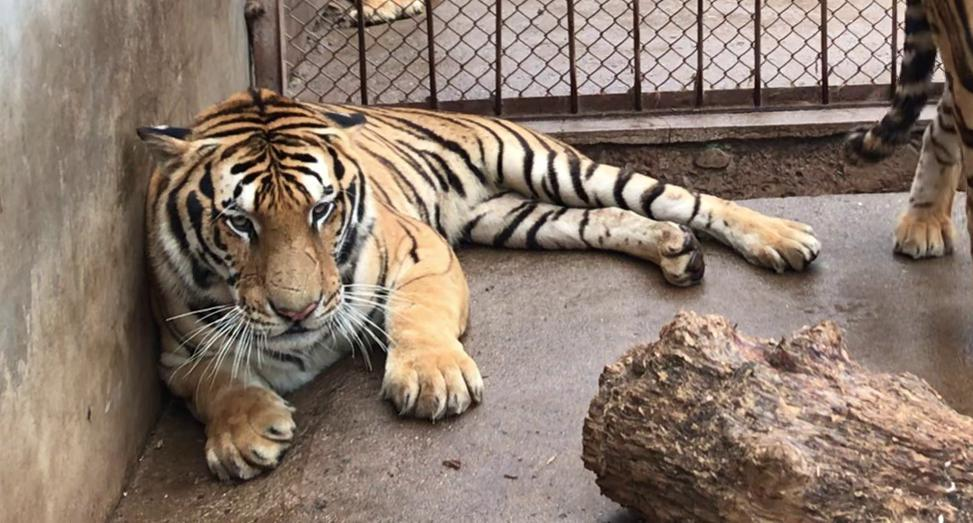tiger: (137, 89, 820, 479)
